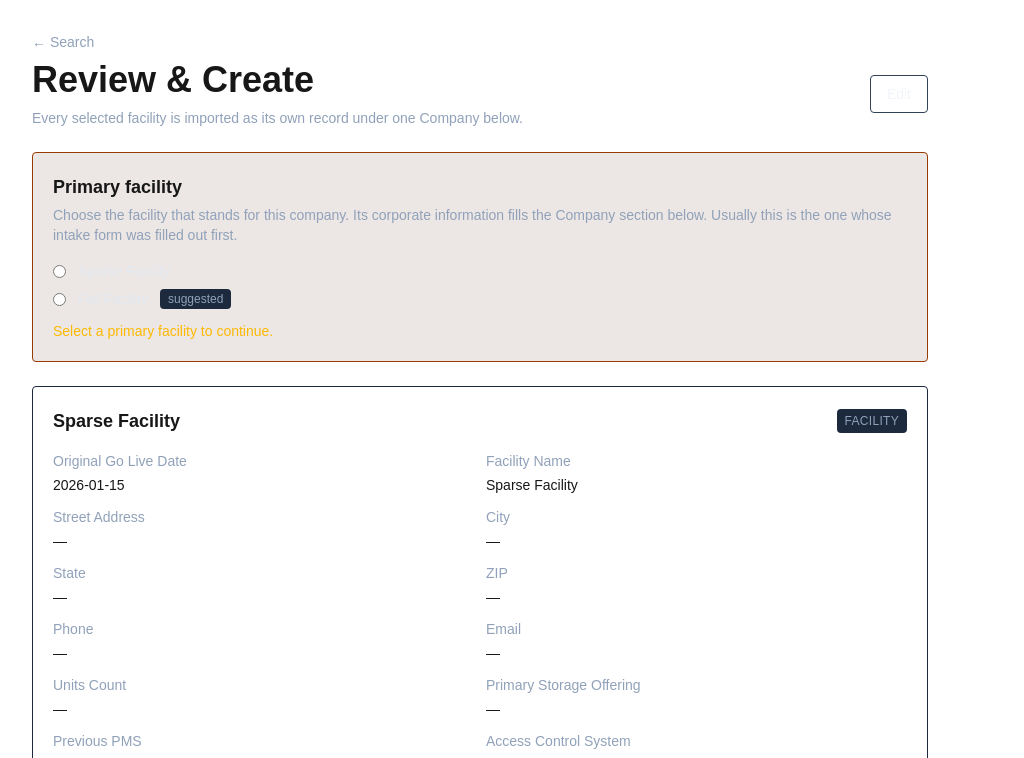
Test: ClientsNewPage › seeds the Company from whichever facility was chosen, even one with no first-time answer
Step 1. Click the radio button labelled "Full Facility suggested" → (60, 299), box [53,292,66,306]
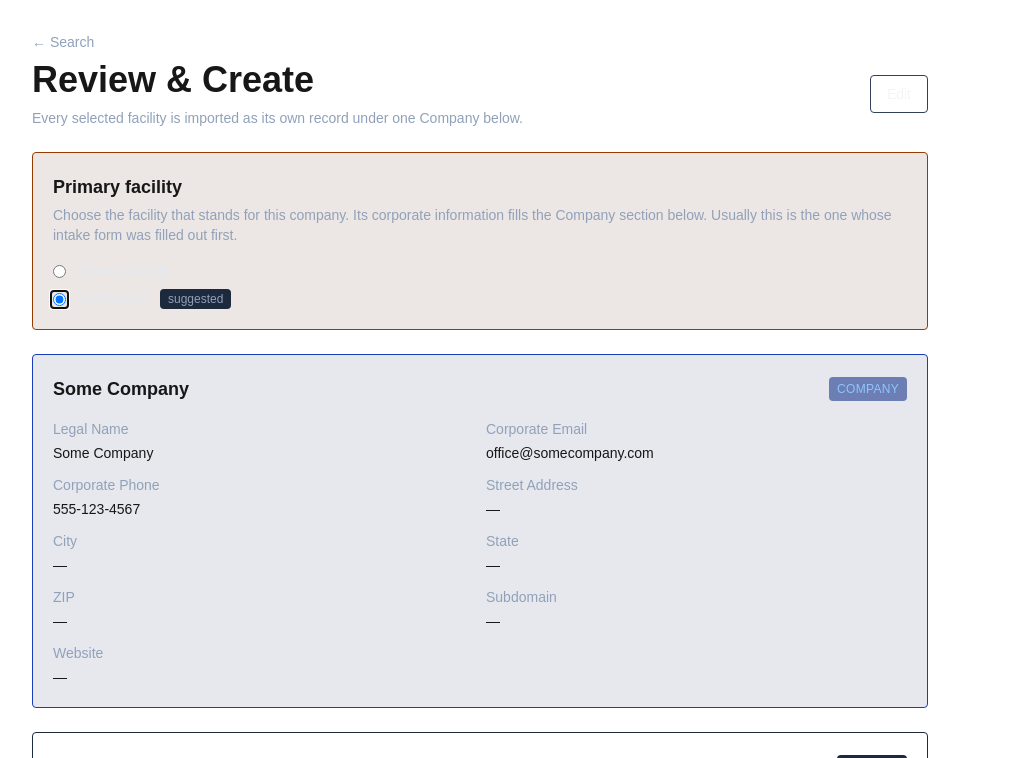
Check: the heading "Some Company" is shown, box [53,375,189,403]
Check: the text "office@somecompany.com" is shown, box [486,445,654,461]
Check: the text "555-123-4567" is shown, box [53,501,140,517]
